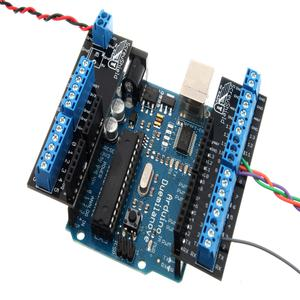duino: (30, 3, 267, 288)
